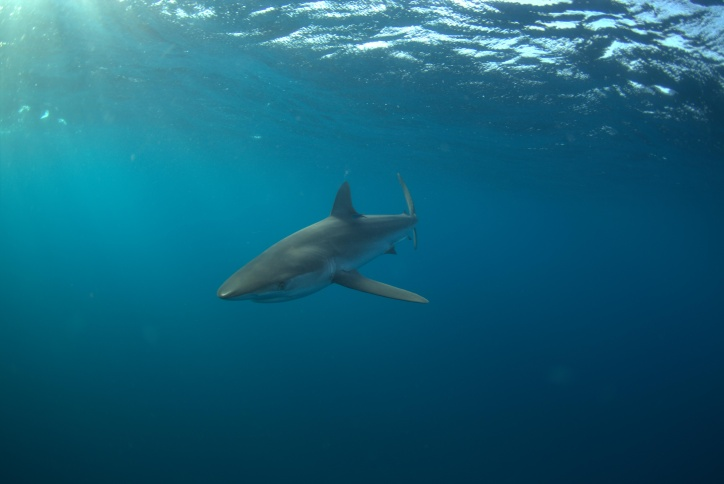Sedoso: (200, 167, 449, 330)
